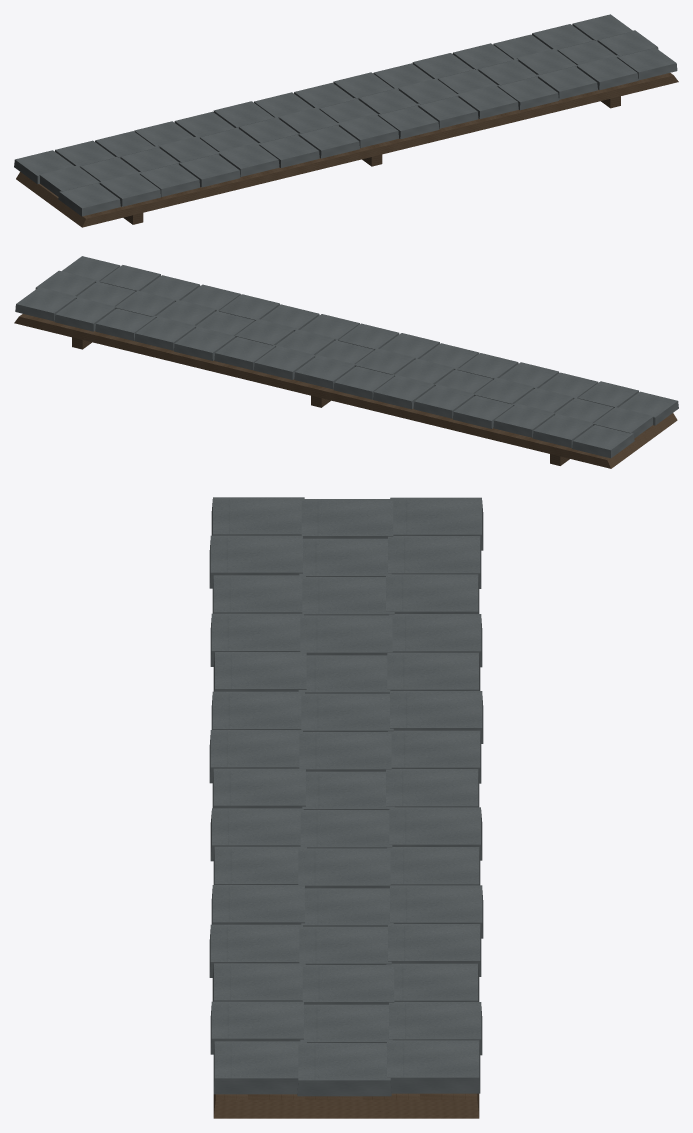
The model's file is village__04__old_warehouse__roof_left__section_05.glb.
3 views of the same model, one above another, from view 1: azimuth 30°, elevation 25°; view 2: azimuth 150°, elevation 25°; view 3: azimuth 270°, elevation 25° (orthographic). The views are drawn at different scales.
Parts seen in each view (by area): view 1: RoofLeft_Course_05; view 2: RoofLeft_Course_05; view 3: RoofLeft_Course_05.
Boxes of the visible parts, left/top/right/bottom form: RoofLeft_Course_05: left=14, top=14, right=678, bottom=227; RoofLeft_Course_05: left=14, top=256, right=678, bottom=468; RoofLeft_Course_05: left=209, top=497, right=483, bottom=1118.
Size of the model in its own units: 5.71 by 0.2995 by 1.13.
2 materials, 2 textured.
